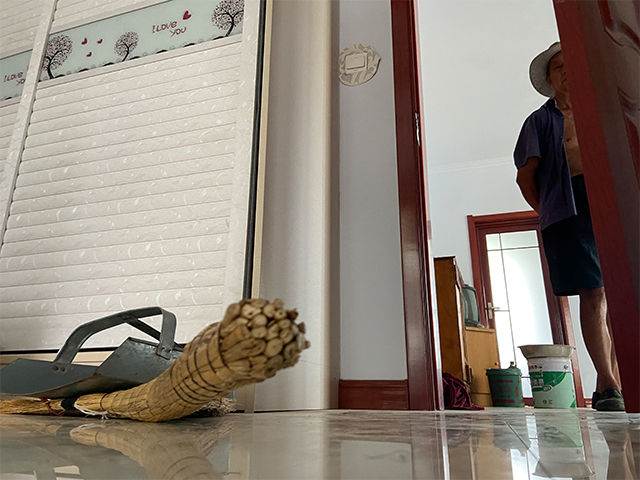cabinet: (1, 1, 340, 411), (434, 255, 500, 408)
